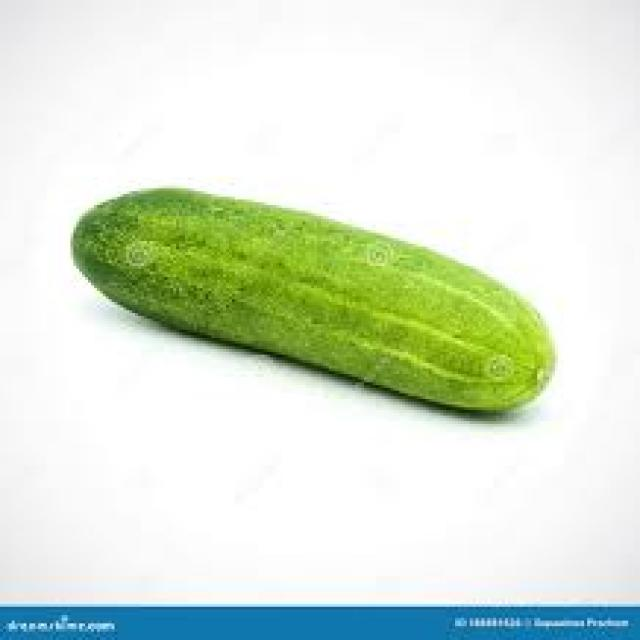cucumber: (67, 183, 555, 415)
